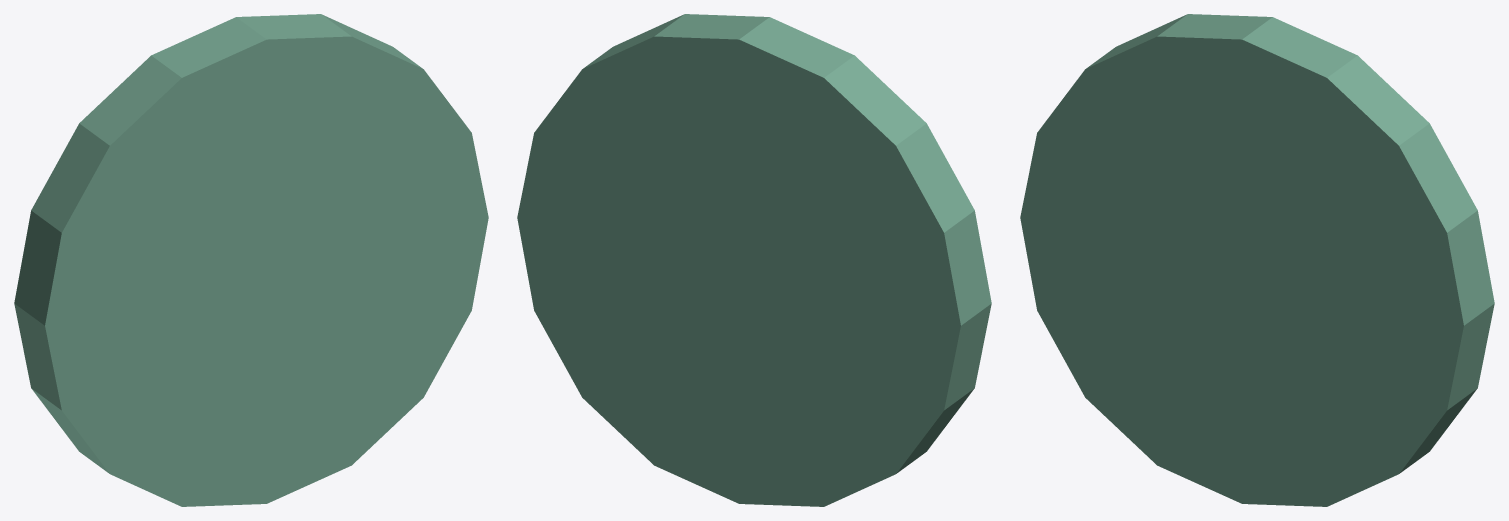
The model's file is product-identity-token-eco.glb.
The picture shows the model from 3 angles, left to right: view 1: azimuth 30°, elevation 25°; view 2: azimuth 150°, elevation 25°; view 3: azimuth 330°, elevation 25°; orthographic projection.
Parts seen in each view (by area): view 1: identity-disc; view 2: identity-disc; view 3: identity-disc.
Part boxes in pixels (x1,y1,x2,y2): identity-disc: [14, 14, 488, 506]; identity-disc: [517, 14, 991, 506]; identity-disc: [1020, 14, 1494, 506].
Bounding box in the file's own units: 1 × 1 × 0.12.
